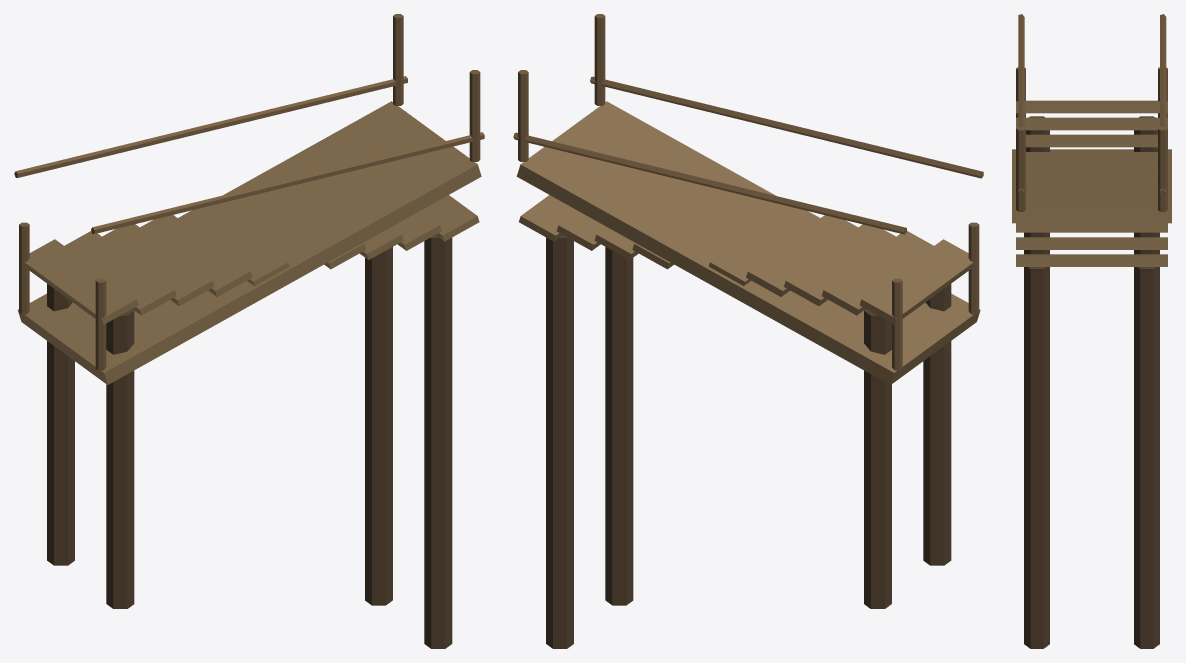
File: K_WalkRamp.glb
3 renders of one model, left to right at view 1: azimuth 30°, elevation 25°; view 2: azimuth 150°, elevation 25°; view 3: azimuth 270°, elevation 25°, orthographic. The views are drawn at different scales.
Parts seen in each view (by area): view 1: K_WalkRamp; view 2: K_WalkRamp; view 3: K_WalkRamp.
Boxes of the visible parts, <box> form: K_WalkRamp: <box>14,14,484,648</box>; K_WalkRamp: <box>513,14,983,648</box>; K_WalkRamp: <box>1012,14,1171,648</box>.
Bounding box in the file's own units: 4.18 × 5.84 × 1.6.
